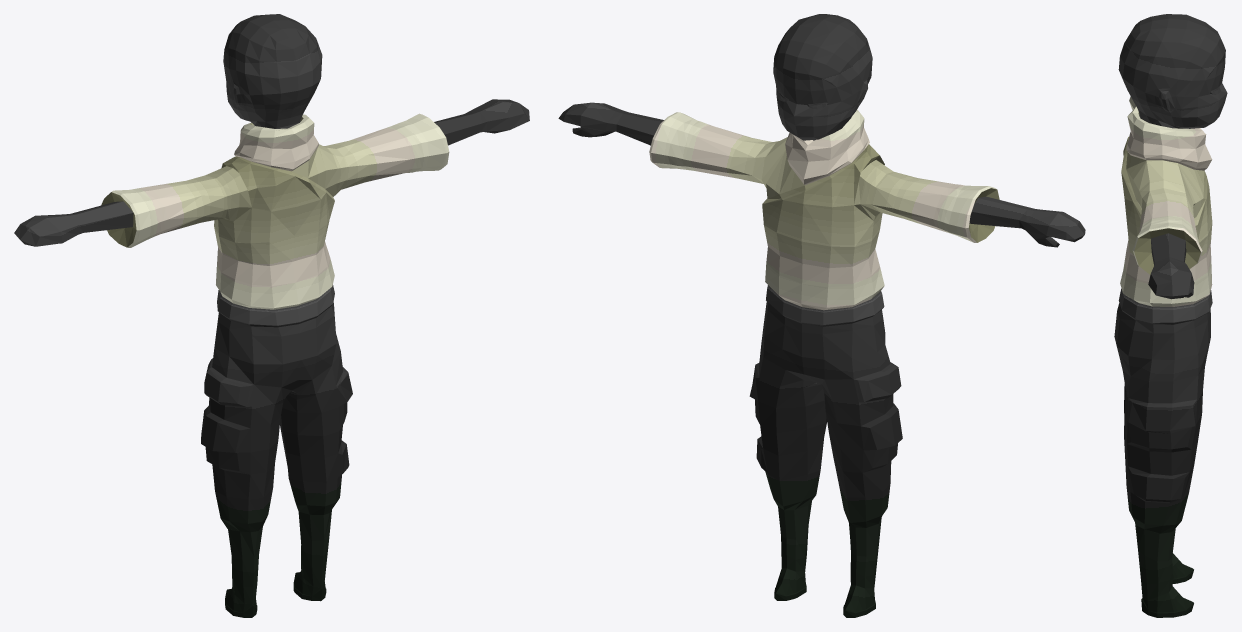
Rendered from CharSkyKid_Body_AP07CargoPants_01.glb.
3 renders of one model, left to right at view 1: azimuth 30°, elevation 25°; view 2: azimuth 150°, elevation 25°; view 3: azimuth 270°, elevation 25°, orthographic.
Parts seen in each view (by area): view 1: CharSkyKid_Body_AP07CargoPants_01; view 2: CharSkyKid_Body_AP07CargoPants_01; view 3: CharSkyKid_Body_AP07CargoPants_01.
Boxes of the visible parts, x1,y1,x2,y2 form: CharSkyKid_Body_AP07CargoPants_01: (14,14,529,617); CharSkyKid_Body_AP07CargoPants_01: (558,14,1085,617); CharSkyKid_Body_AP07CargoPants_01: (1114,14,1227,617).
Bounding box in the file's own units: 13.83 × 14.9 × 2.65.
1 material, 1 textured.
